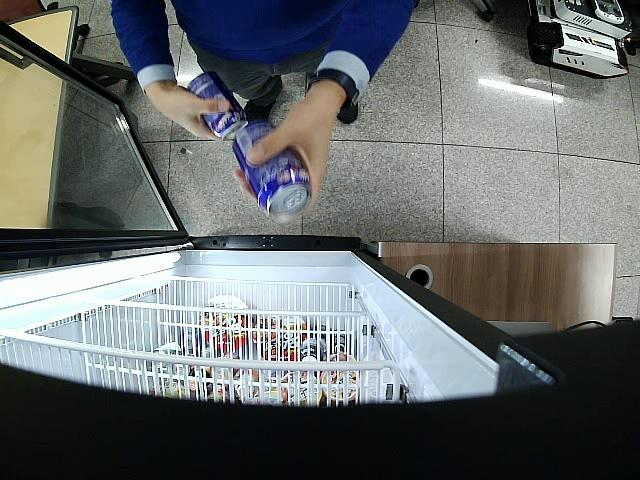00_hand: (235, 96, 338, 224), (145, 85, 229, 142)
14_welchsGrape: (233, 120, 311, 216), (188, 71, 248, 140)
